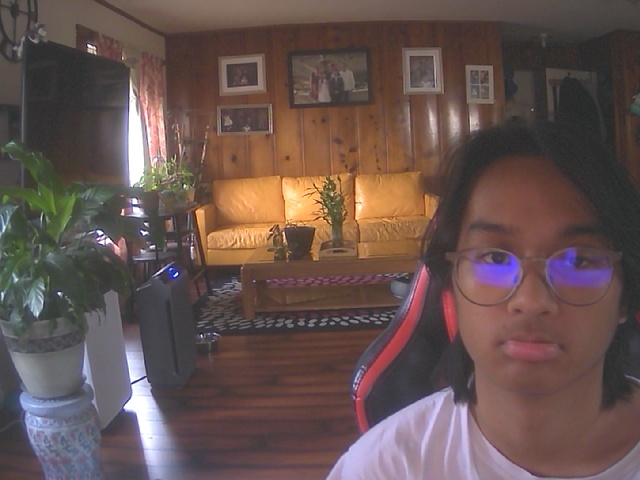sad: (437, 124, 634, 402)
